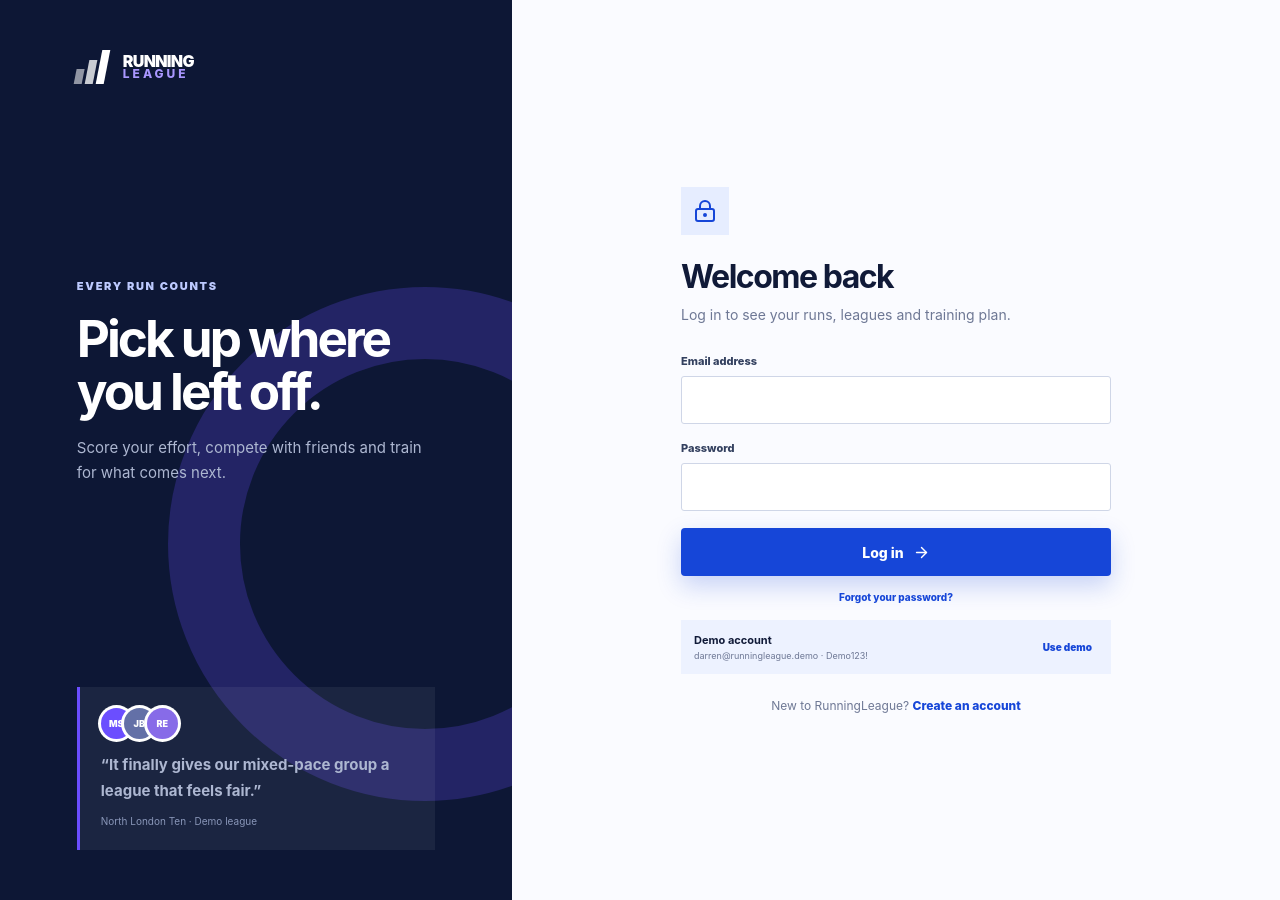
Scenario: RunningLeague product › creates a private league with an invite code
Step 1. Click the button "Use demo" → (1067,647), box [1037,640,1098,654]
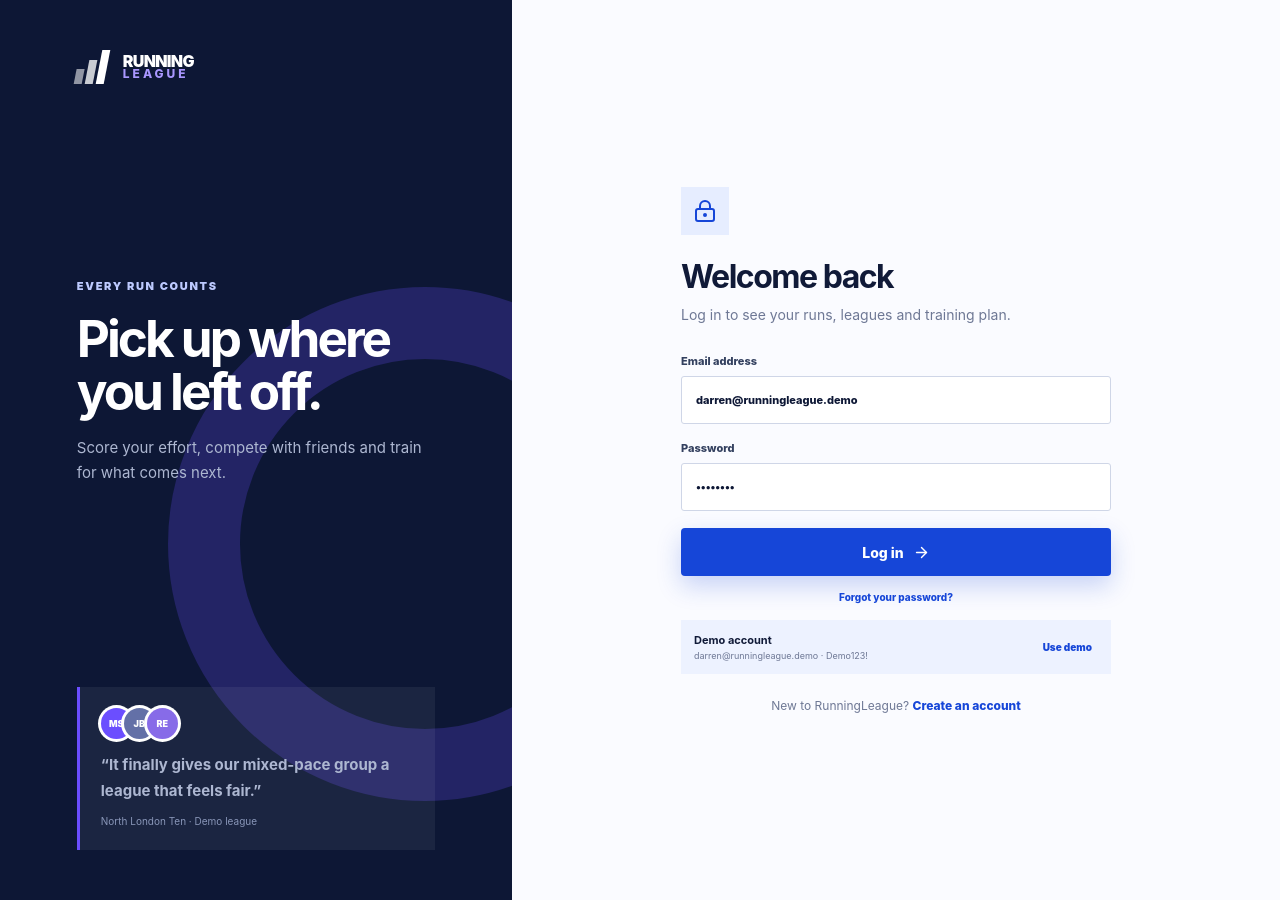
Step 2. Click the button "Log in" → (896,552), box [681,528,1111,576]
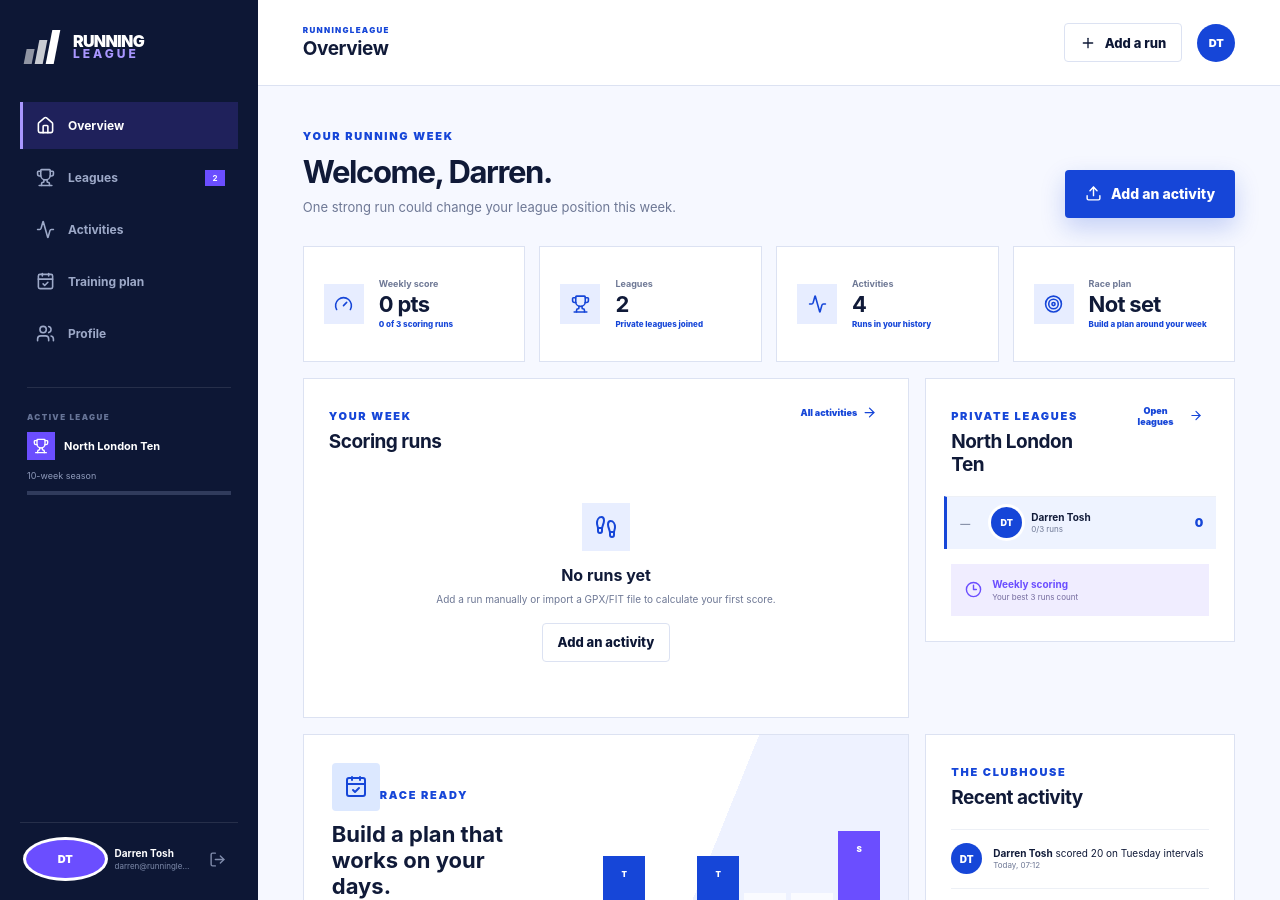
Now the heading "Welcome, Darren." is shown, box [303,153,552,190]
Step 3. Click the link "Leagues 2" → (93,178), box [36,168,225,187]
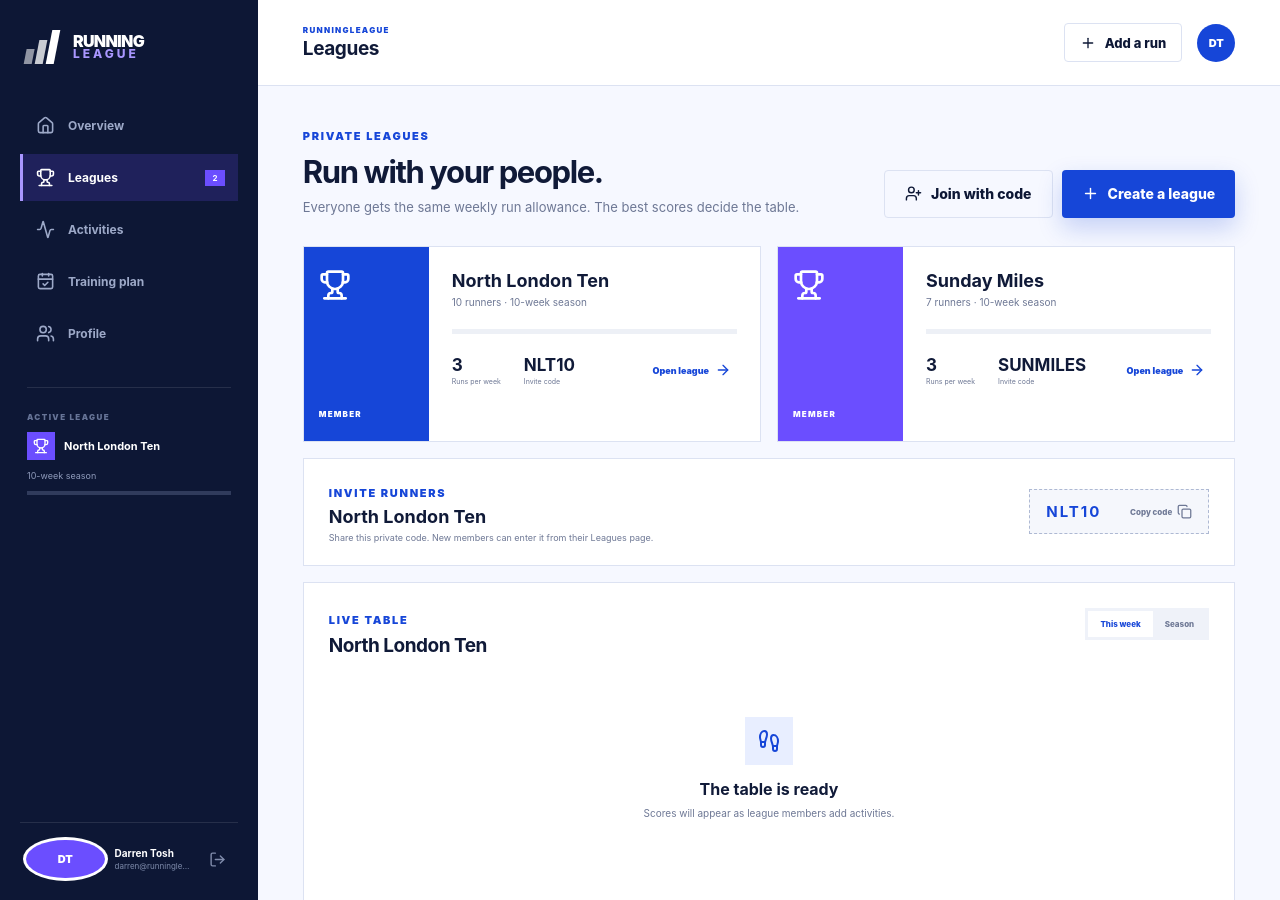
Step 4. Click the button "Create a league" → (1148,194), box [1062,170,1235,218]
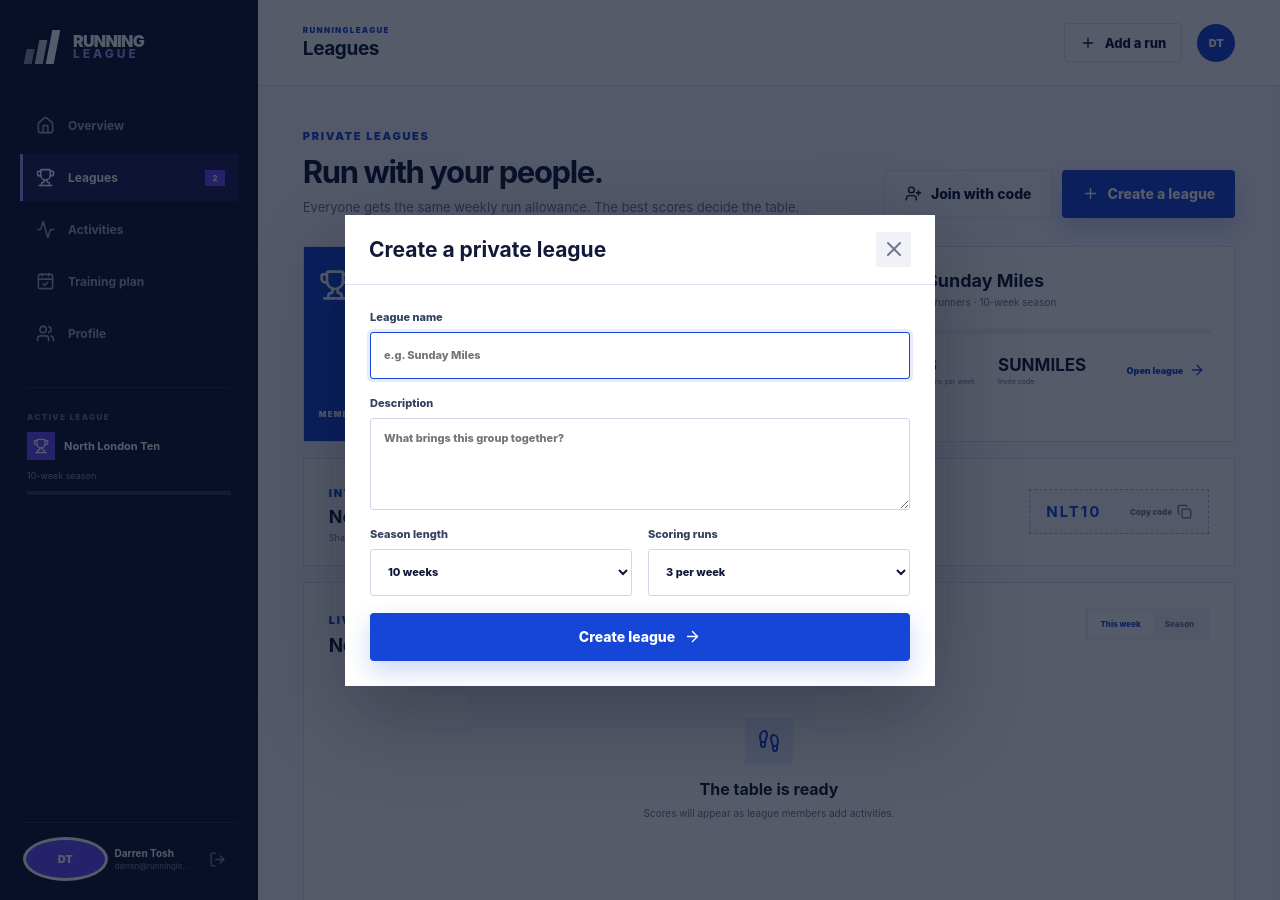
Step 5. Type "Saturday Crew" into the field labelled "League name" → (640,355), box [370,332,910,378]
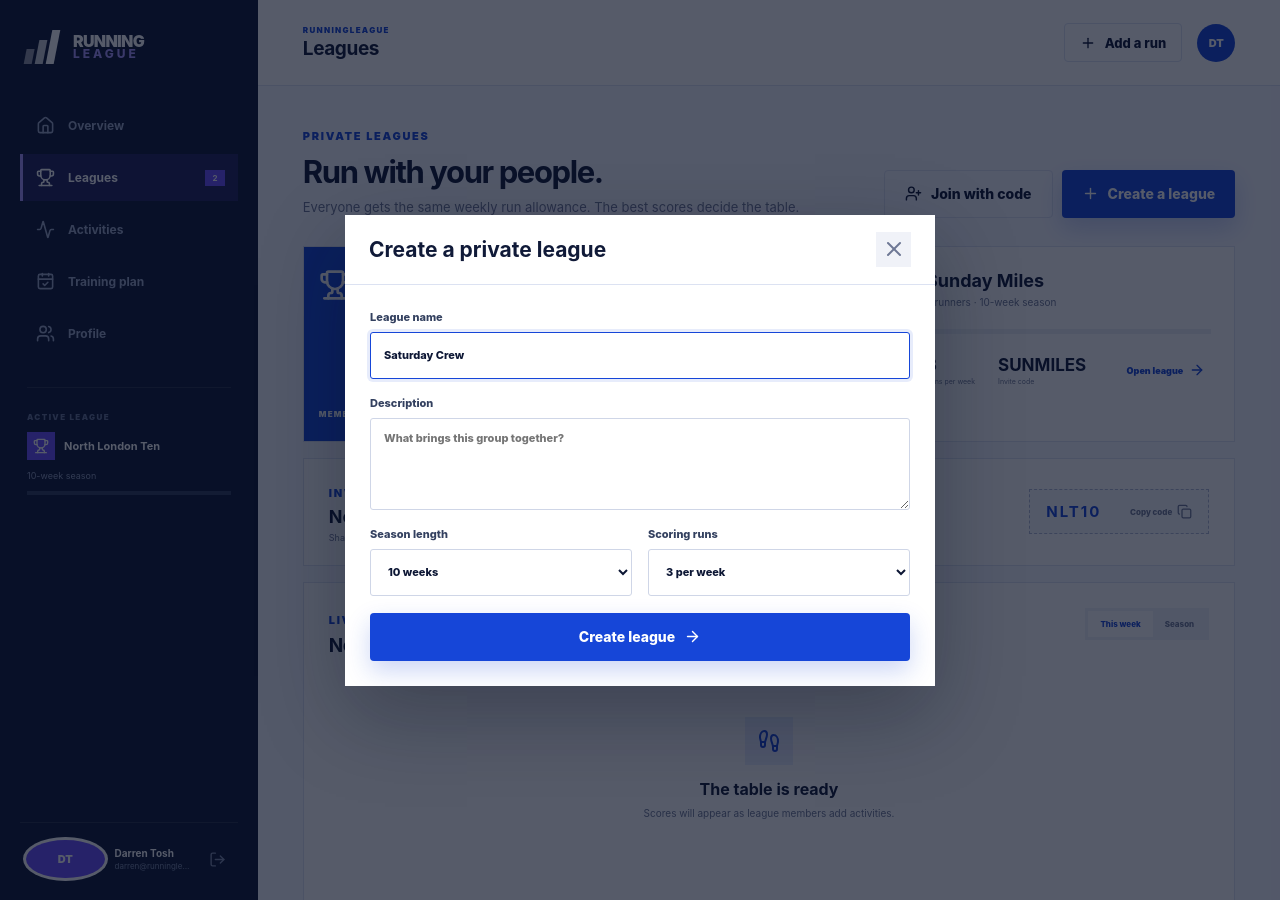
Step 6. Click the button "Create league" → (640,636), box [370,612,910,660]
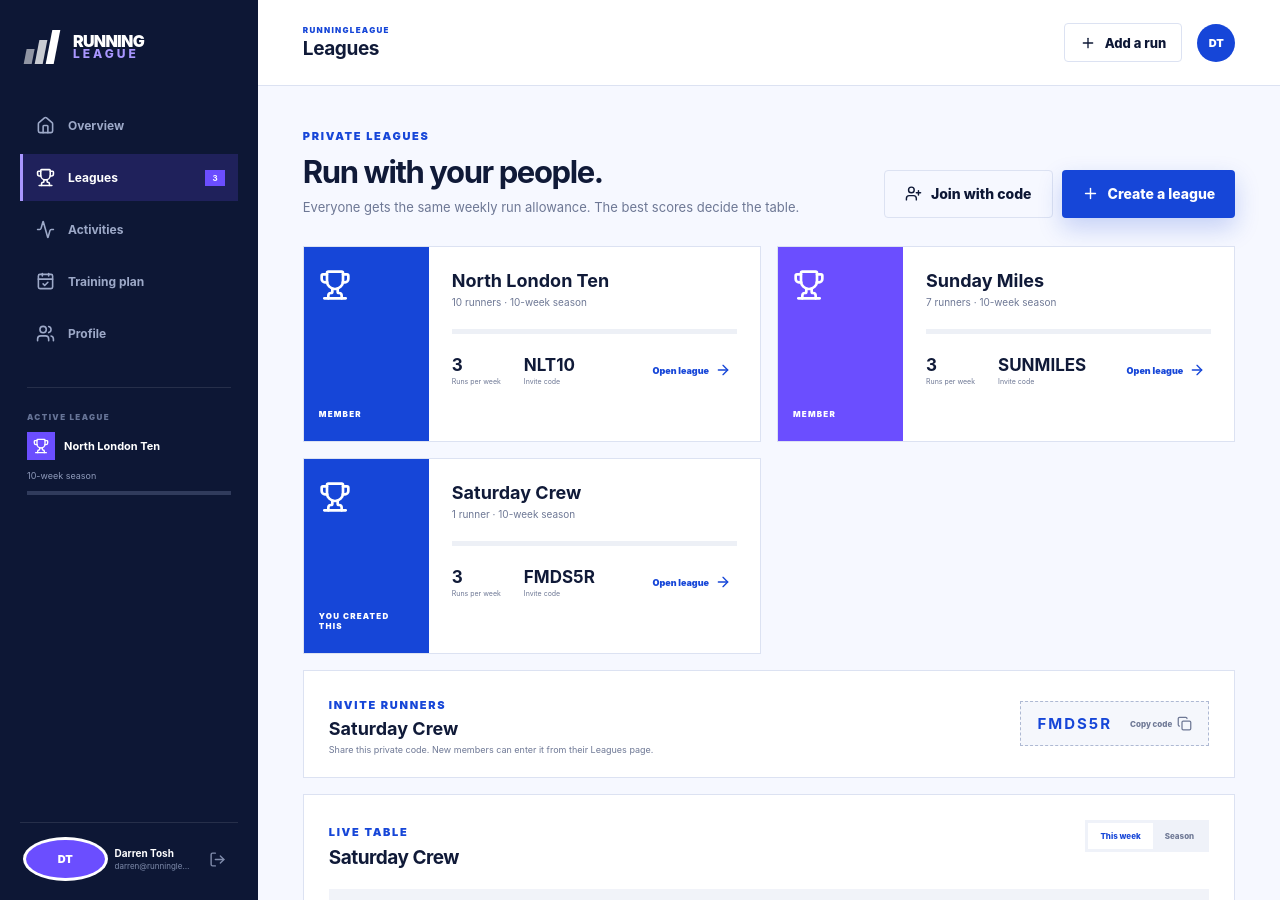
Now the heading "Saturday Crew" below "NLT10" is shown, box [452,482,581,503]
